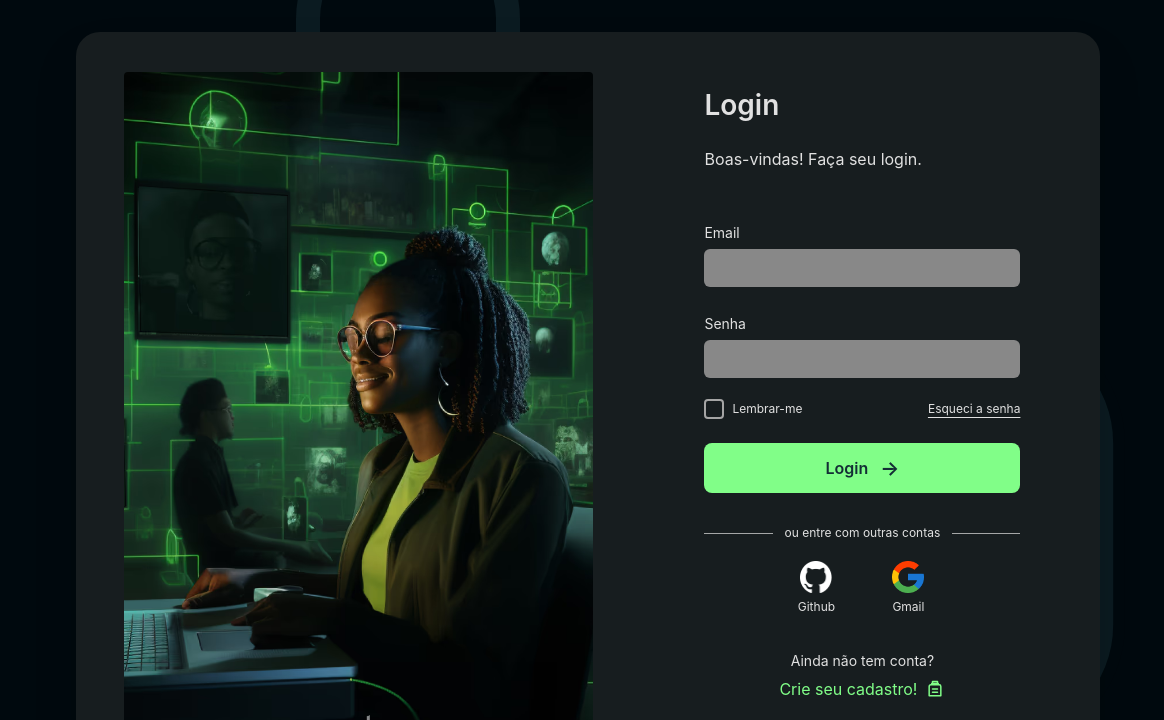
LoginPage › stores the token only after validating /auth/me and redirects to feed
Type "ada@example.com" into the field labelled "Email" at (862,268), box [704,249,1020,287]
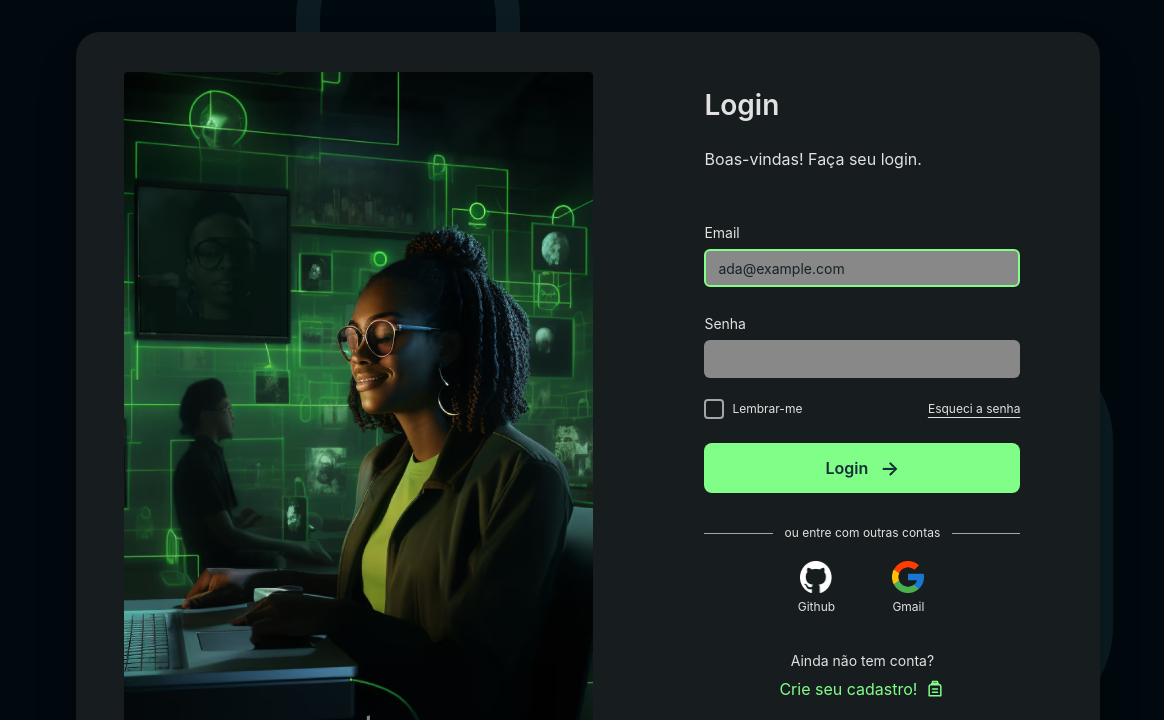
Type "password1" into the password field labelled "Senha" at (862,359), box [704,340,1020,378]
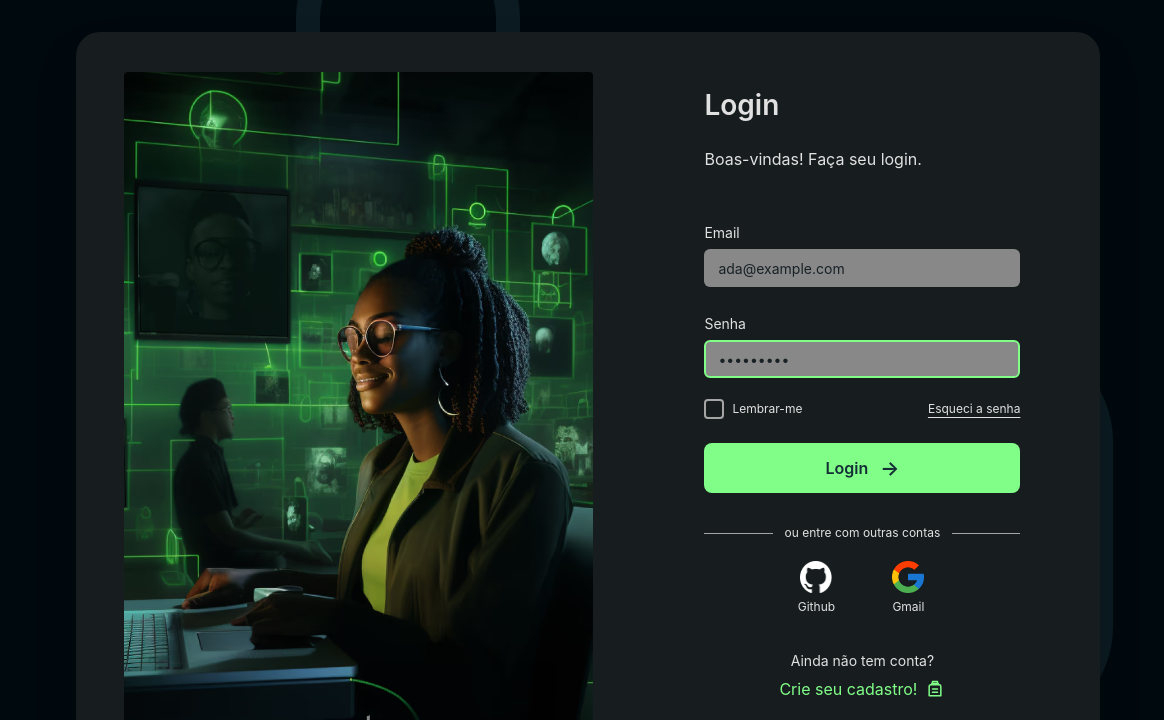
Click the button "Login →" at (862,468), box [704,443,1020,493]
(page scrolled)
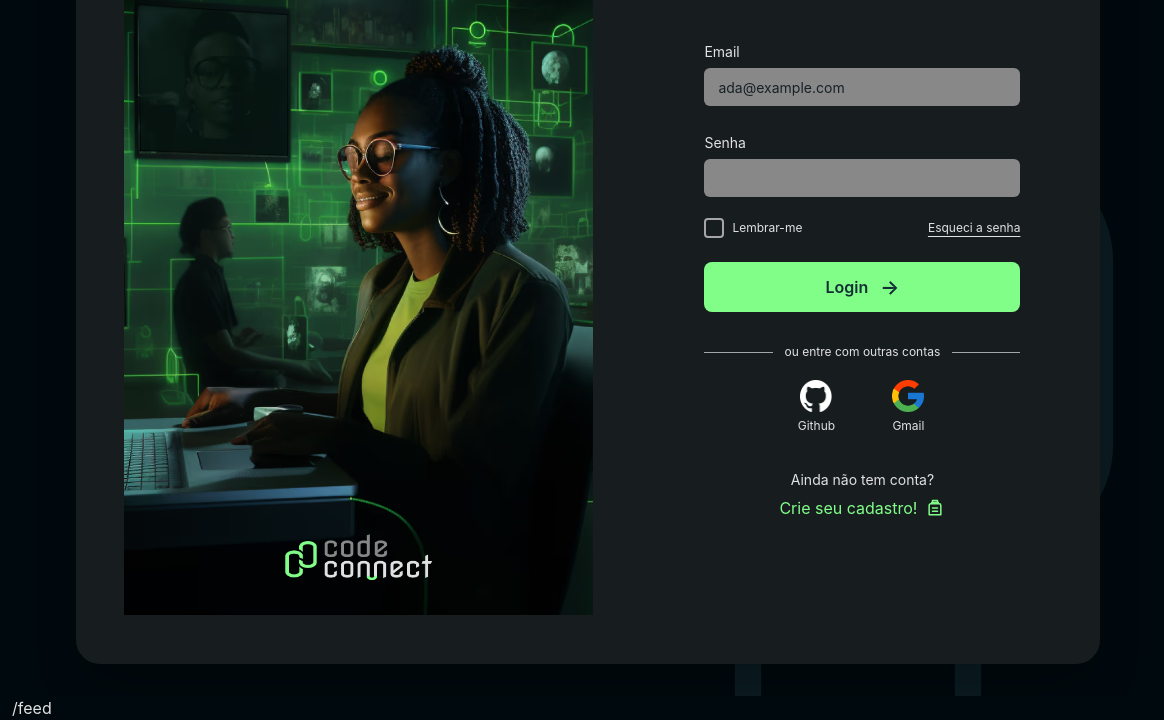
Now the text named "Rota atual" reads "/feed", box [12,698,52,718]
